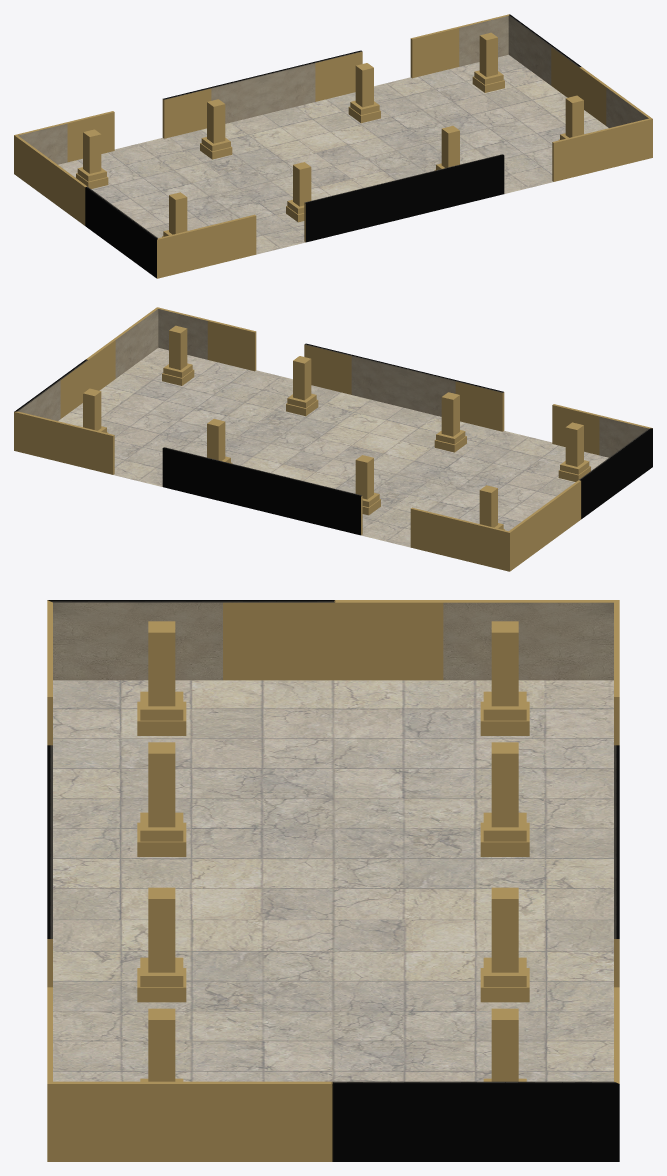
File: Room_Custom04_Type01.fbx
The picture shows the model from 3 angles, top to bottom: view 1: azimuth 30°, elevation 25°; view 2: azimuth 150°, elevation 25°; view 3: azimuth 270°, elevation 25°; orthographic projection. The views are drawn at different scales.
Parts seen in each view (by area): view 1: Room2x1_4Exits, Column1, Column3, Column5, Column7, Column6, Column8, Column4, Column2; view 2: Room2x1_4Exits, Column2, Column4, Column6, Column8, Column5, Column7, Column3, Column1; view 3: Room2x1_4Exits, Column3, Column4, Column6, Column5, Column7, Column8, Column2, Column1.
Part boxes in pixels (bbox=[...]): Room2x1_4Exits: bbox=[14, 14, 652, 278]; Column1: bbox=[472, 32, 504, 92]; Column3: bbox=[348, 63, 380, 123]; Column5: bbox=[200, 99, 232, 159]; Column7: bbox=[76, 129, 108, 188]; Column6: bbox=[286, 162, 311, 222]; Column8: bbox=[162, 192, 187, 237]; Column4: bbox=[434, 126, 459, 170]; Column2: bbox=[559, 95, 583, 140]; Room2x1_4Exits: bbox=[14, 307, 652, 571]; Column2: bbox=[162, 325, 194, 385]; Column4: bbox=[286, 356, 318, 416]; Column6: bbox=[434, 392, 466, 452]; Column8: bbox=[558, 422, 590, 481]; Column5: bbox=[355, 455, 380, 515]; Column7: bbox=[479, 485, 504, 530]; Column3: bbox=[207, 419, 232, 463]; Column1: bbox=[83, 388, 107, 433]; Room2x1_4Exits: bbox=[47, 600, 619, 1161]; Column3: bbox=[480, 887, 529, 1002]; Column4: bbox=[137, 887, 186, 1002]; Column6: bbox=[137, 742, 186, 856]; Column5: bbox=[480, 742, 529, 856]; Column7: bbox=[480, 621, 529, 735]; Column8: bbox=[137, 621, 186, 735]; Column2: bbox=[140, 1008, 183, 1081]; Column1: bbox=[483, 1008, 526, 1081].
Size of the model in its own units: 20 by 1.91 by 10.
